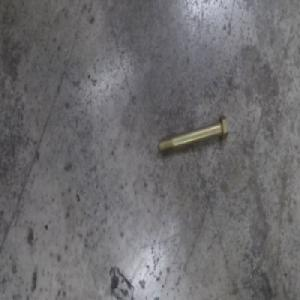Bolt: (158, 113, 228, 157)
